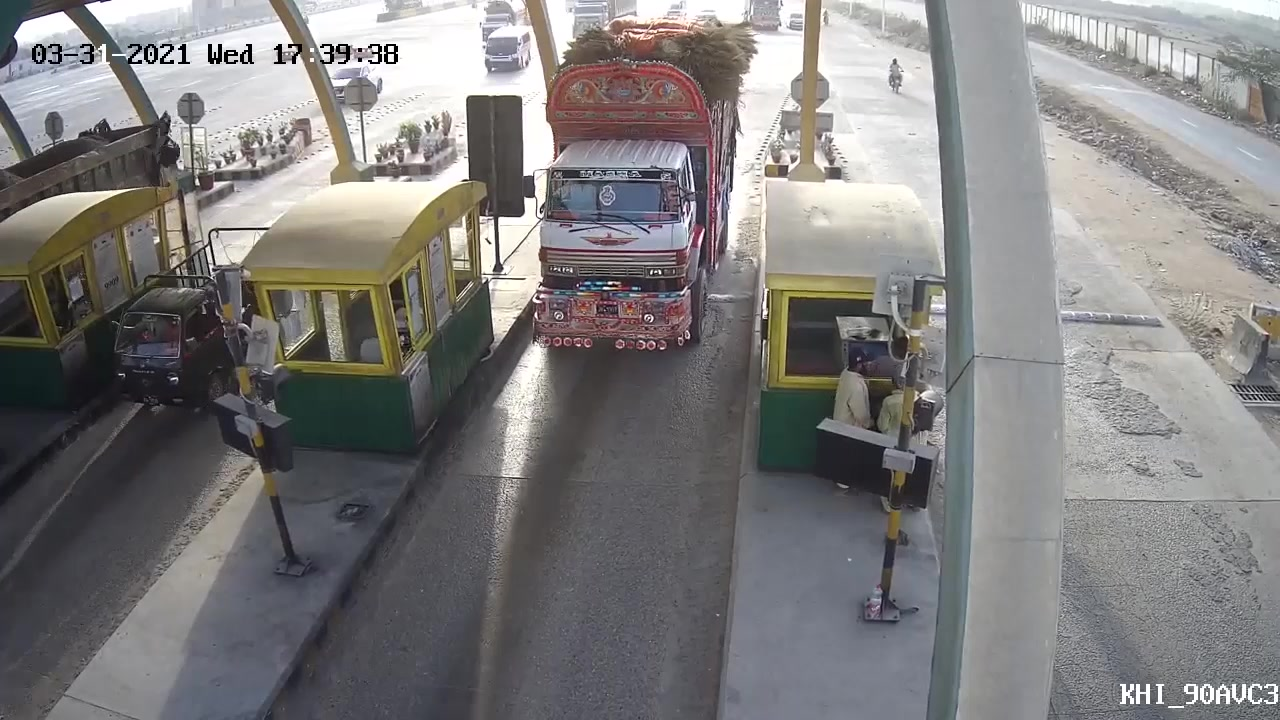F5: (517, 19, 757, 365)
